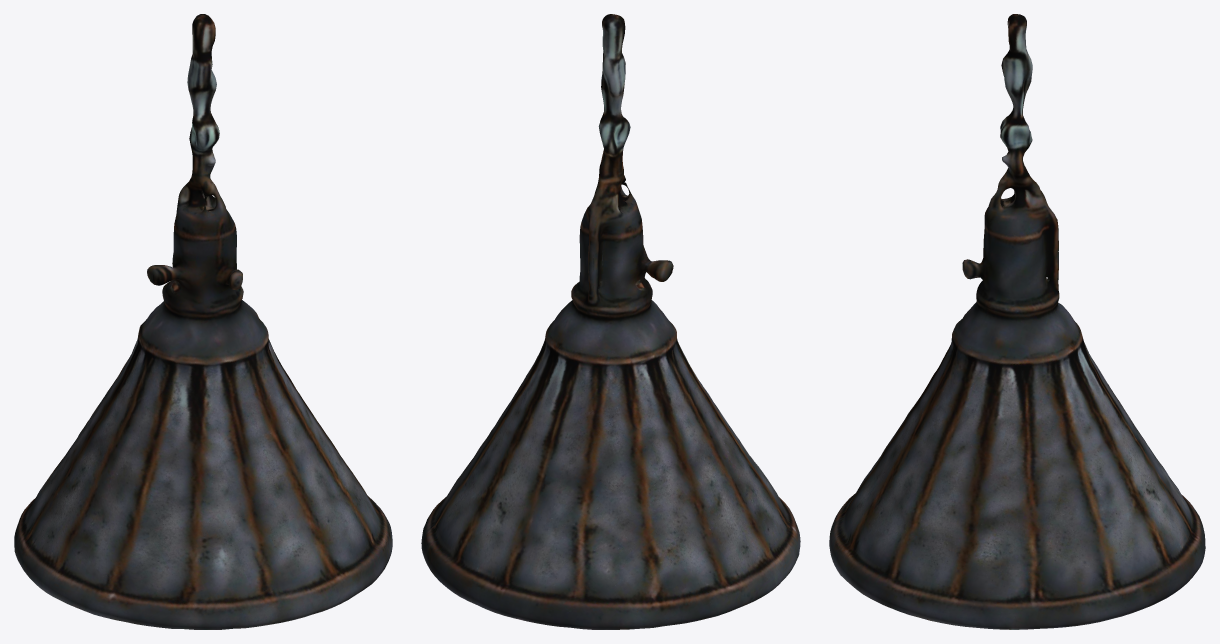
Rendered from pandantLamp.glb.
3 renders of one model, left to right at view 1: azimuth 30°, elevation 25°; view 2: azimuth 150°, elevation 25°; view 3: azimuth 270°, elevation 25°, orthographic.
Visible parts, largest first — view 1: mesh; view 2: mesh; view 3: mesh.
Boxes of the visible parts, left/top/right/bottom form: mesh: left=14, top=14, right=392, bottom=629; mesh: left=421, top=14, right=800, bottom=629; mesh: left=829, top=14, right=1205, bottom=629.
Size of the model in its own units: 0.6332 by 0.9998 by 0.6328.
Materials: 1 (1 with a texture image).
